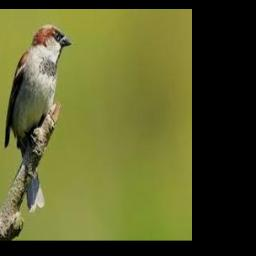Sparrow: (3, 24, 71, 212)
